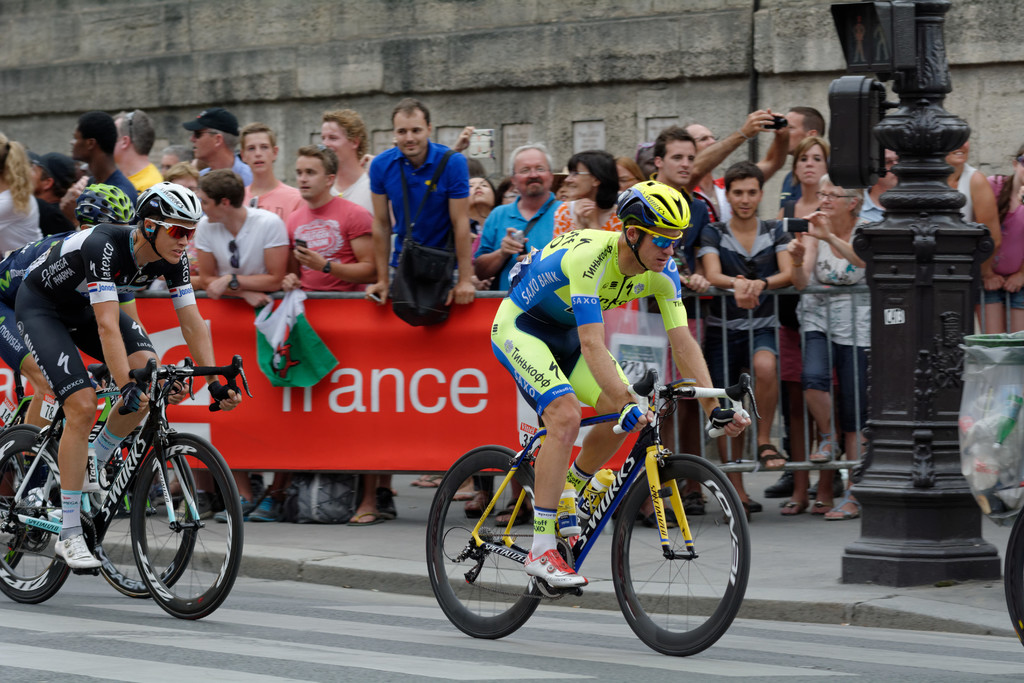Bike_toward: (420, 372, 758, 655), (5, 364, 265, 621)
